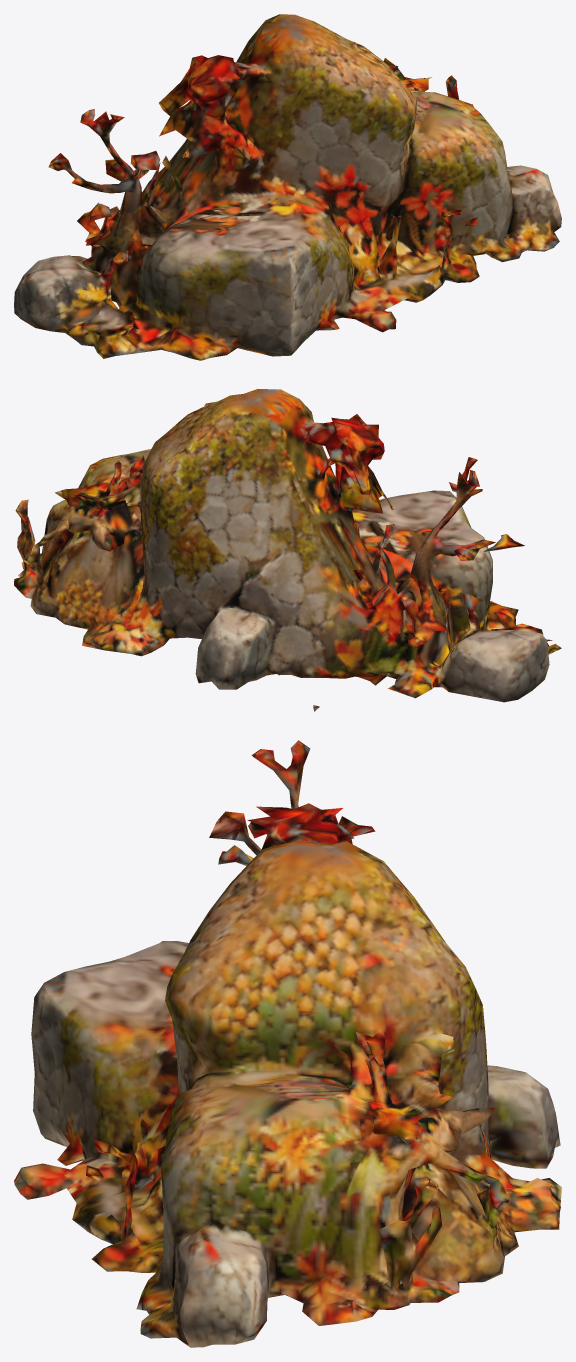
Rendered from FallDecor_FirstRoom_MossBoulder.fbx.
The picture shows the model from 3 angles, top to bottom: view 1: azimuth 30°, elevation 25°; view 2: azimuth 150°, elevation 25°; view 3: azimuth 270°, elevation 25°; orthographic projection. The views are drawn at different scales.
Parts seen in each view (by area): view 1: FallDecor_FirstRoom_MossBoulder_Mesh; view 2: FallDecor_FirstRoom_MossBoulder_Mesh; view 3: FallDecor_FirstRoom_MossBoulder_Mesh.
Boxes of the visible parts, x1,y1,x2,y2 form: FallDecor_FirstRoom_MossBoulder_Mesh: (14, 14, 561, 360); FallDecor_FirstRoom_MossBoulder_Mesh: (14, 389, 561, 711); FallDecor_FirstRoom_MossBoulder_Mesh: (14, 740, 561, 1347).
Size of the model in its own units: 6 by 2.73 by 3.79.
1 material, 1 textured.
